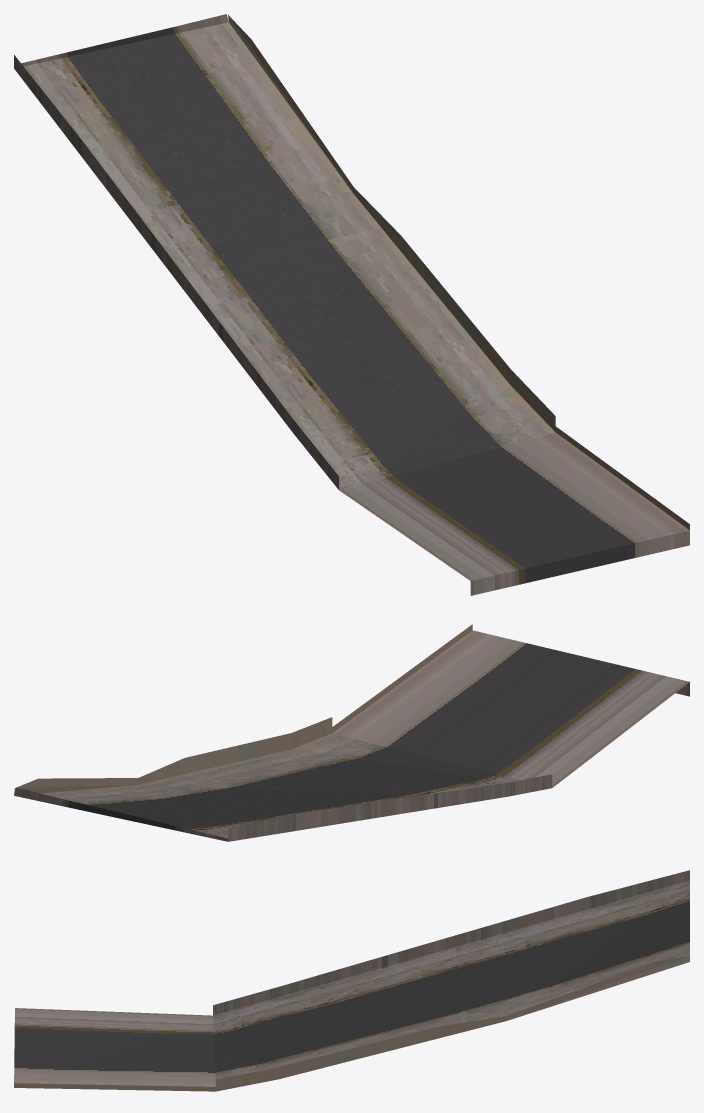
File: lodlae2_roa.obj
3 views of the same model, one above another, from view 1: azimuth 30°, elevation 25°; view 2: azimuth 150°, elevation 25°; view 3: azimuth 270°, elevation 25° (orthographic). The views are drawn at different scales.
Parts seen in each view (by area): view 1: LODLae2_roa; view 2: LODLae2_roa; view 3: LODLae2_roa.
Part boxes in pixels (<box>): LODLae2_roa: <box>14,14,689,595</box>; LODLae2_roa: <box>14,624,689,841</box>; LODLae2_roa: <box>14,870,689,1091</box>.
Bounding box in the file's own units: 20.76 × 18.46 × 74.65.
1 material, 1 textured.
